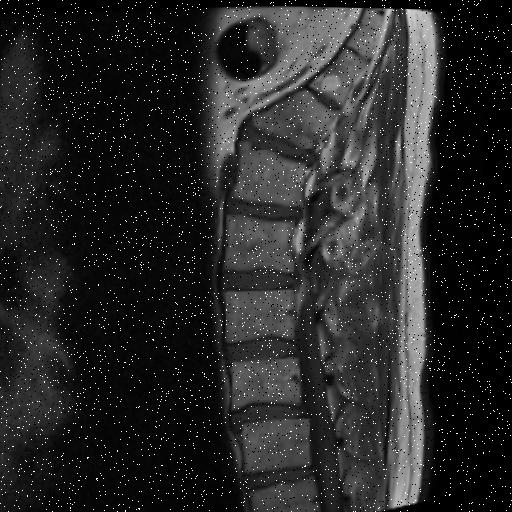L1: (248, 416, 315, 469)
L2: (237, 356, 304, 406)
L3: (229, 287, 299, 339)
L4: (230, 212, 297, 270)
L5: (235, 139, 307, 205)
S1: (253, 88, 337, 146)
